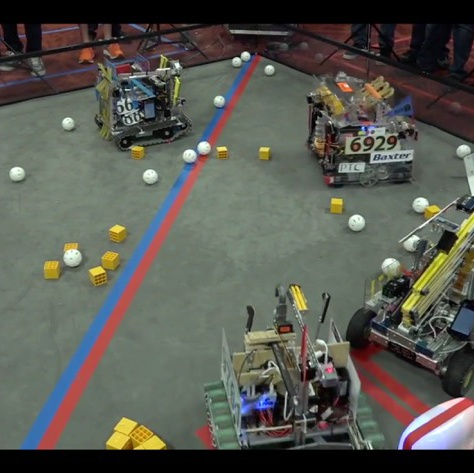robot: (200, 278, 390, 450), (345, 190, 474, 398), (304, 68, 421, 190), (88, 50, 193, 151)
